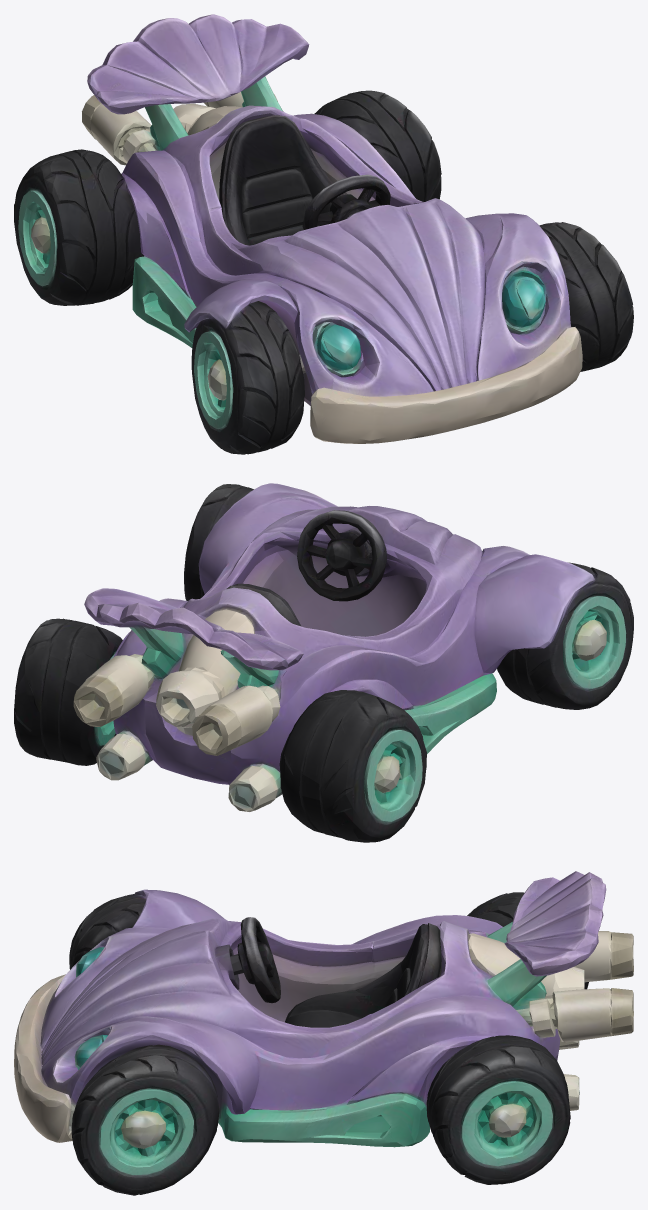
The model's file is shell-axolotl-kart-candidate.glb.
3 renders of one model, top to bottom at view 1: azimuth 30°, elevation 25°; view 2: azimuth 150°, elevation 25°; view 3: azimuth 270°, elevation 25°, orthographic. The views are drawn at different scales.
Parts seen in each view (by area): view 1: shell-axolotl_kart_candidate; view 2: shell-axolotl_kart_candidate; view 3: shell-axolotl_kart_candidate.
Part boxes in pixels (x1,y1,x2,y2): shell-axolotl_kart_candidate: (14,14,633,454); shell-axolotl_kart_candidate: (14,483,633,842); shell-axolotl_kart_candidate: (14,871,633,1195).
Size of the model in its own units: 2.85 by 1.54 by 3.9.
Materials: 1 (1 with a texture image).
